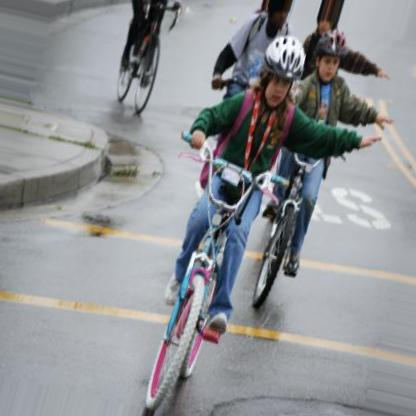with helmet: (260, 37, 306, 108), (312, 28, 349, 85)
